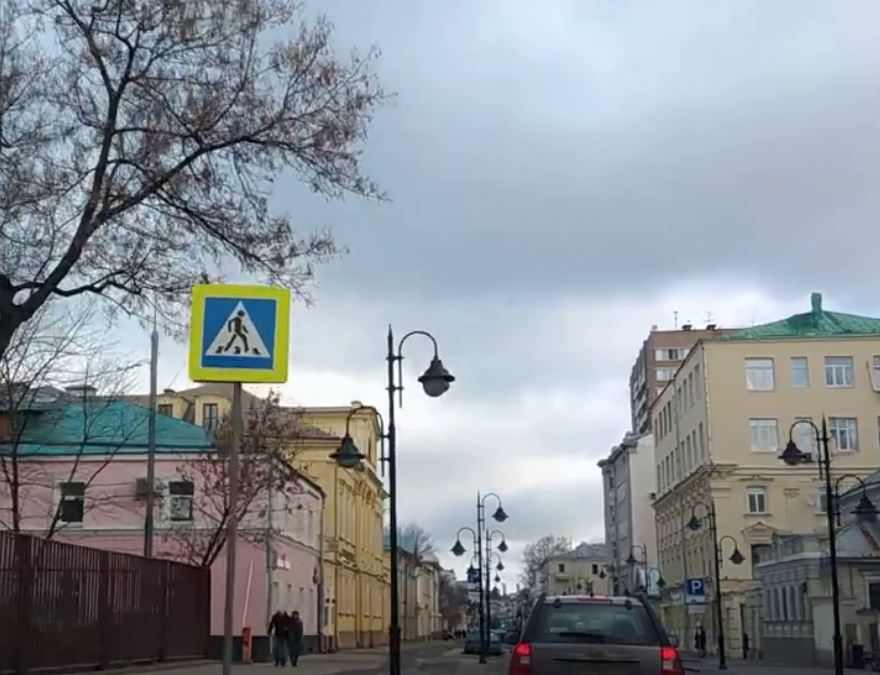Yaya Gecidi: (204, 298, 275, 369)
